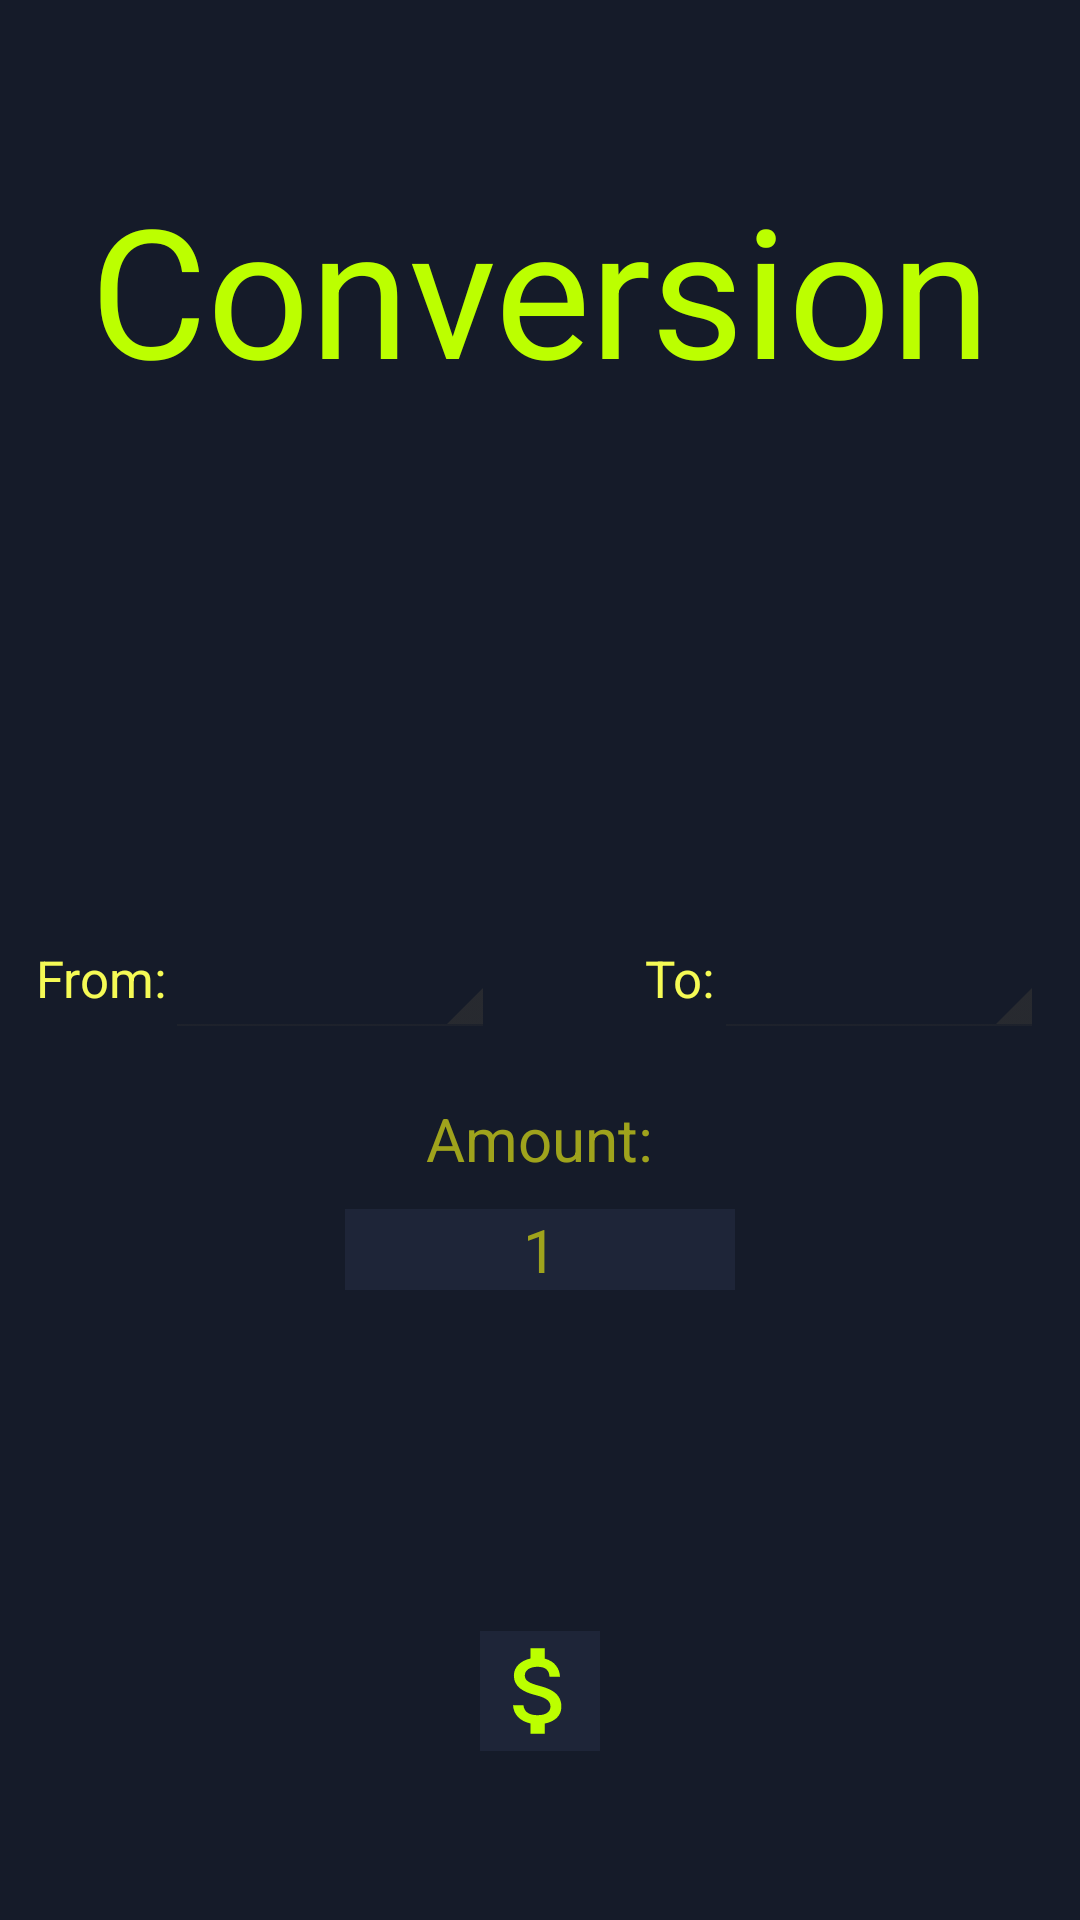

Locate icon controls on the screen. Image size 1080*1920, boxes as (x1, y1, x2, y2).
attach money: (480, 1631, 600, 1751)
